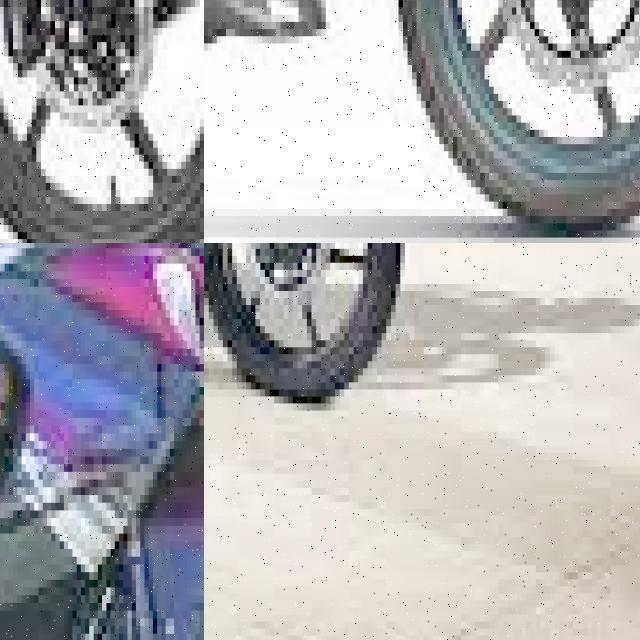bike: (204, 0, 640, 223), (0, 243, 204, 640), (0, 0, 204, 243), (204, 243, 405, 410)
